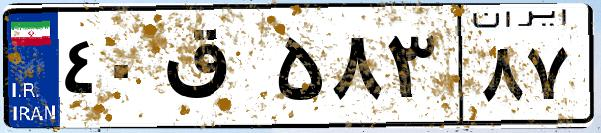0: (110, 28, 158, 98)
3: (385, 28, 445, 110)
4: (57, 26, 110, 100)
5: (270, 28, 330, 110)
7: (525, 38, 570, 115)
8: (330, 28, 385, 110), (475, 38, 525, 113)
ق: (158, 20, 270, 120)
